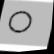no answer: (3, 5, 38, 39)
